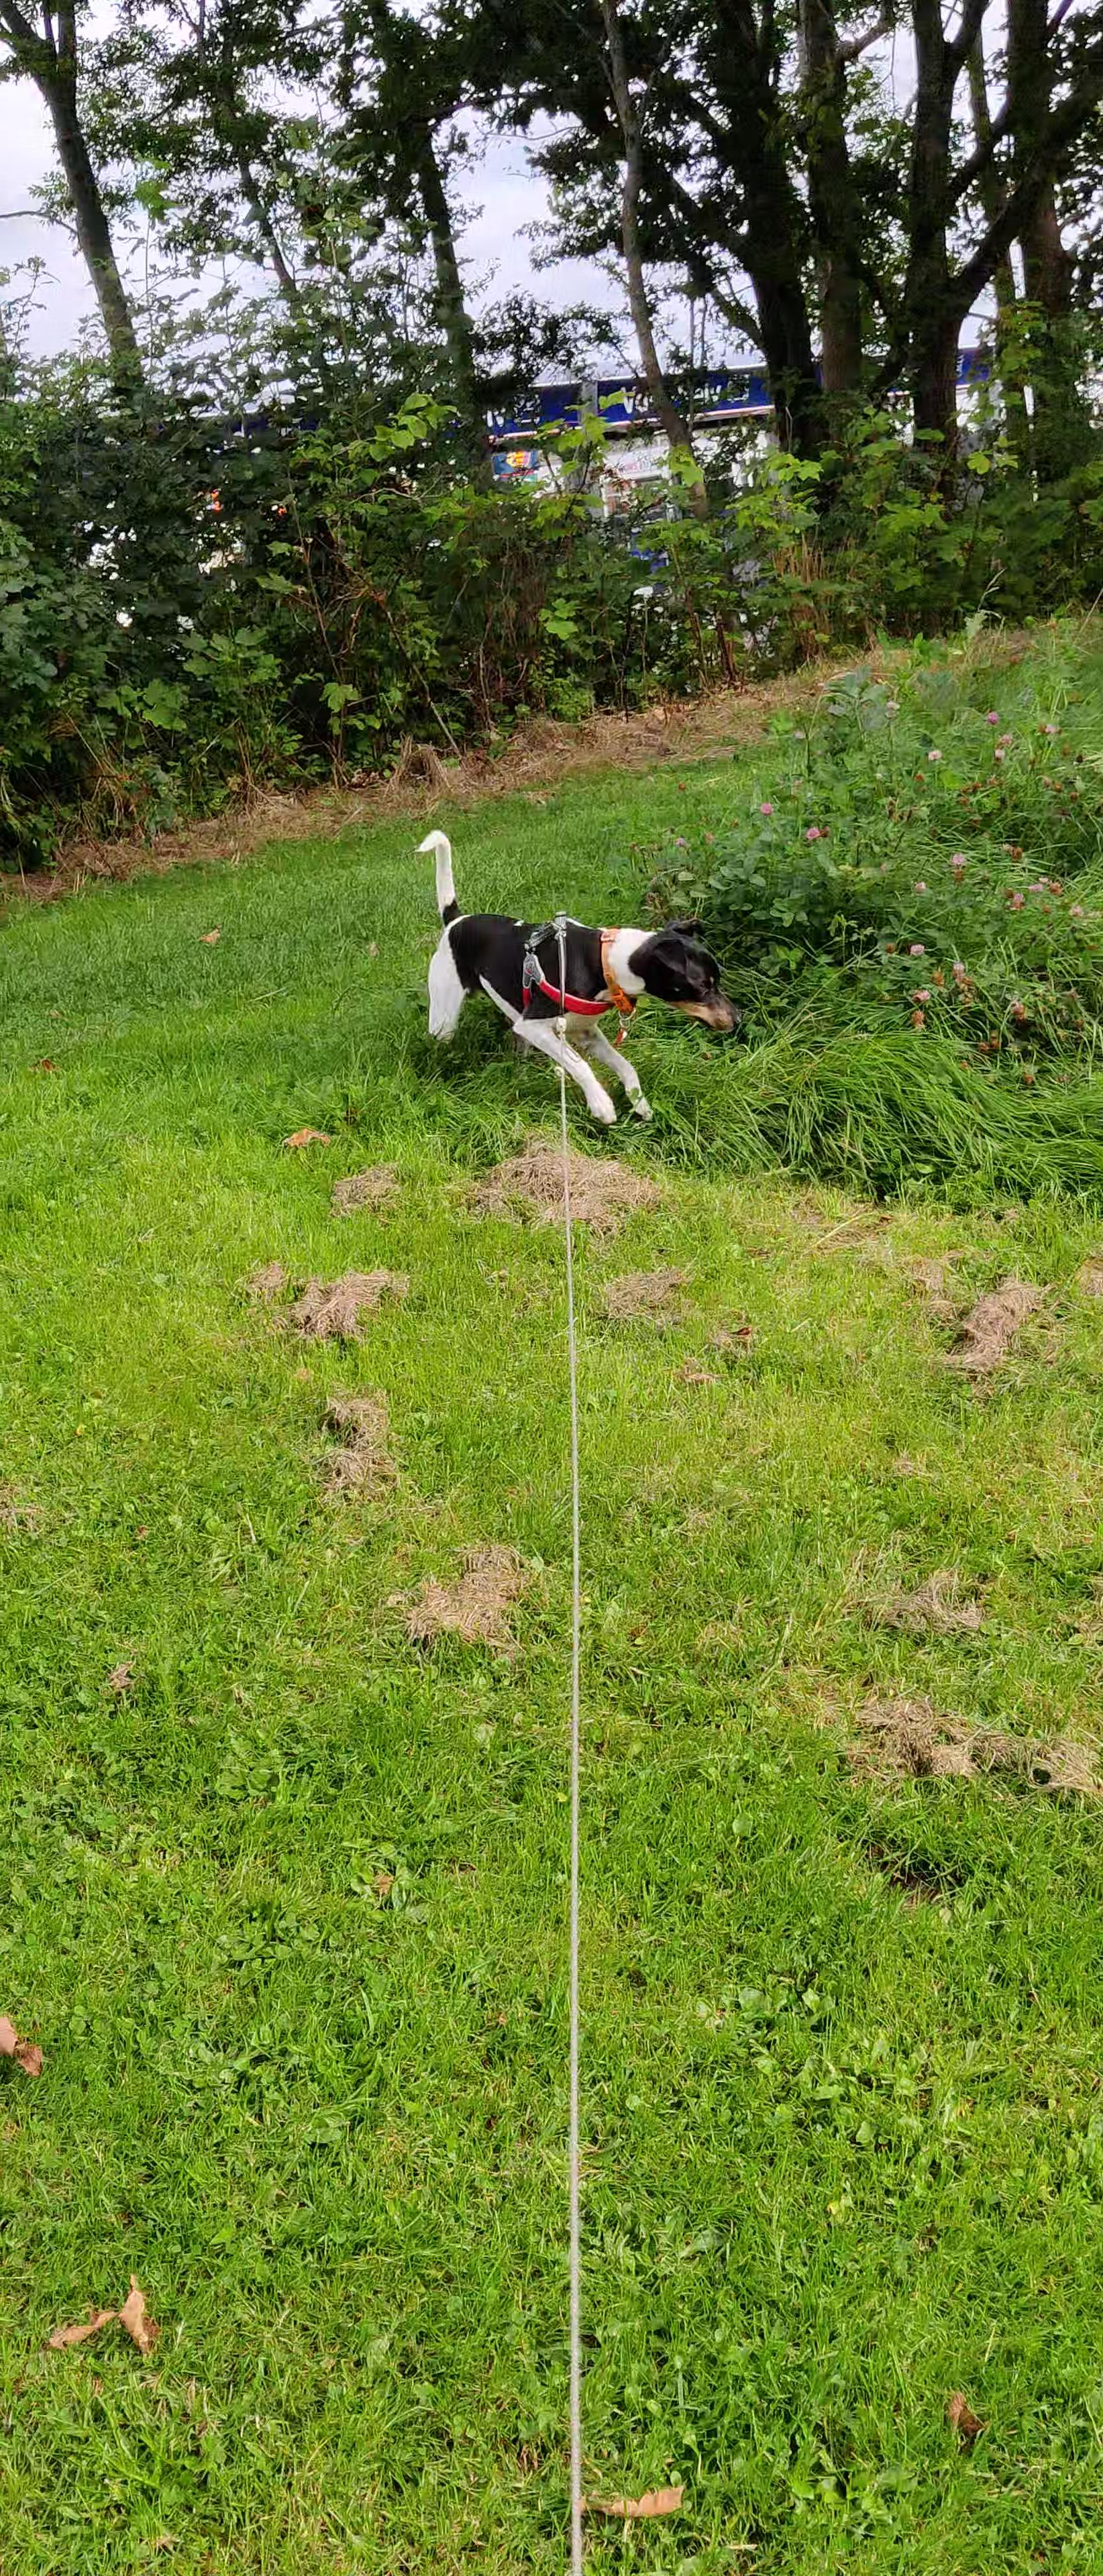Dog: (401, 816, 748, 1140)
